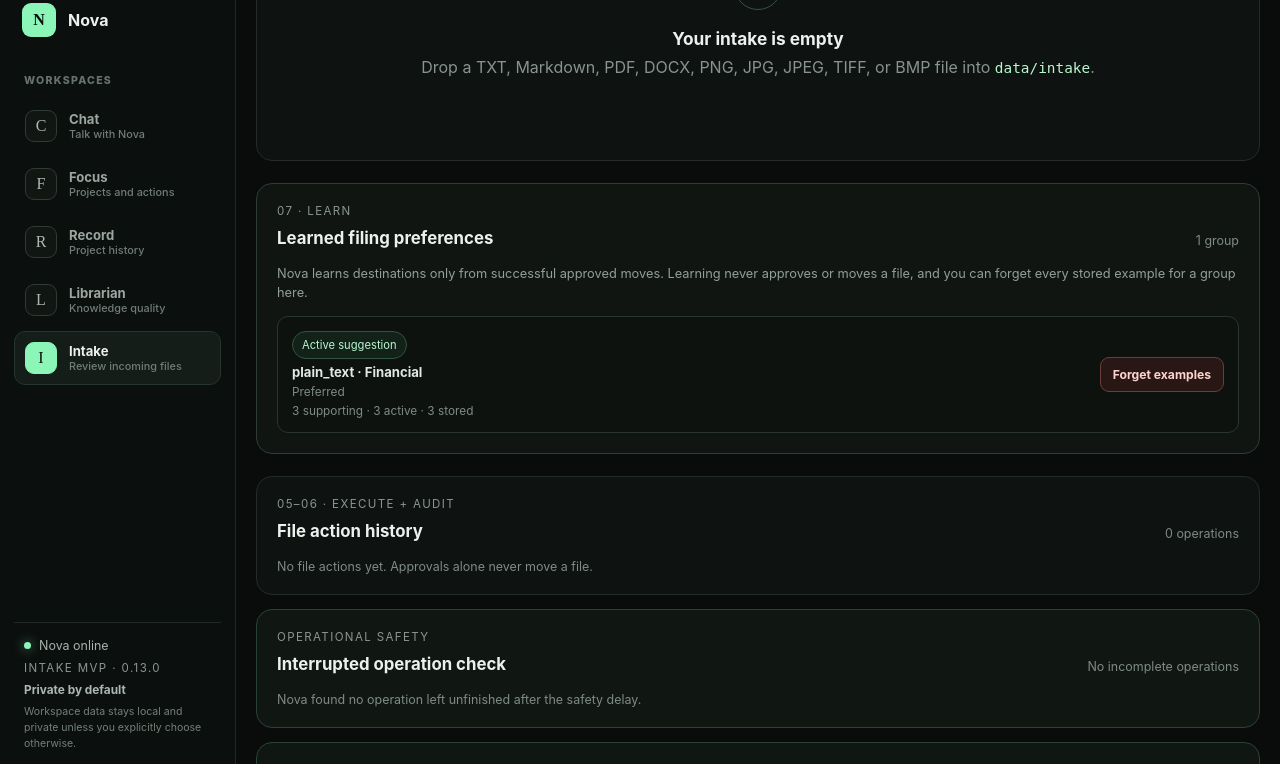
Scenario: App › shows and forgets a learned destination only after typed confirmation
(page scrolled)
Check: the text "Active suggestion" is shown, box [292,331,407,359]
Check: the text "Preferred" is shown, box [292,385,345,399]
Step 1. Click the button "Forget examples" → (1162, 375), box [1100,357,1224,392]
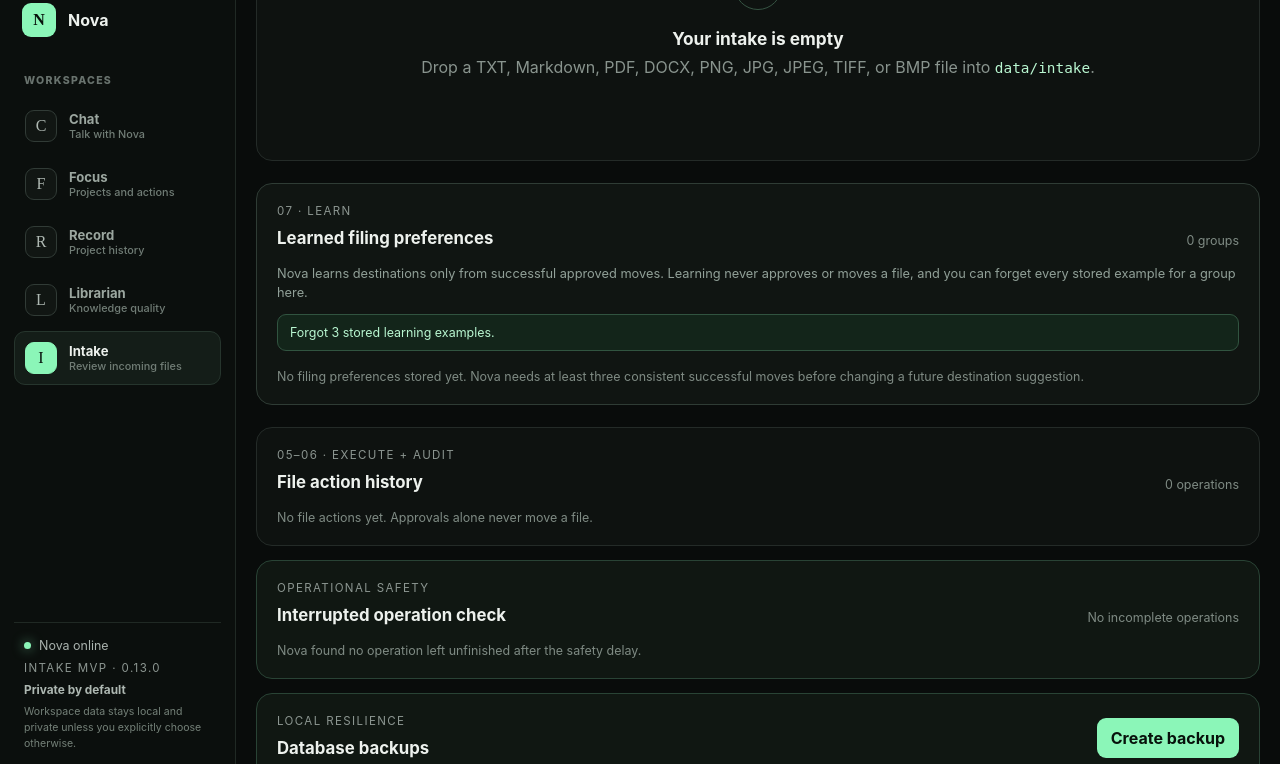
Check: the text "Forgot 3 stored learning examples." is shown, box [277,314,1239,351]
